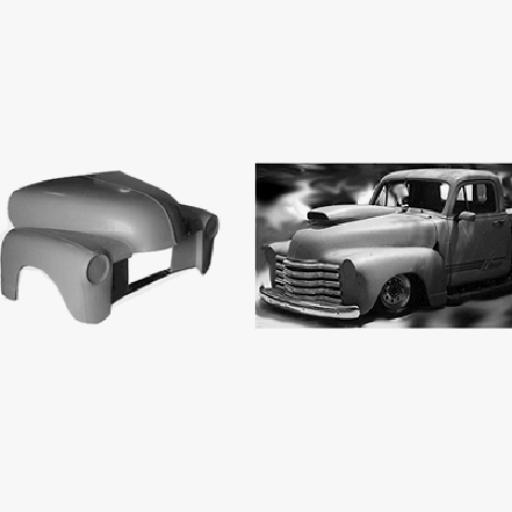truck: (259, 169, 512, 318), (0, 171, 217, 322)
